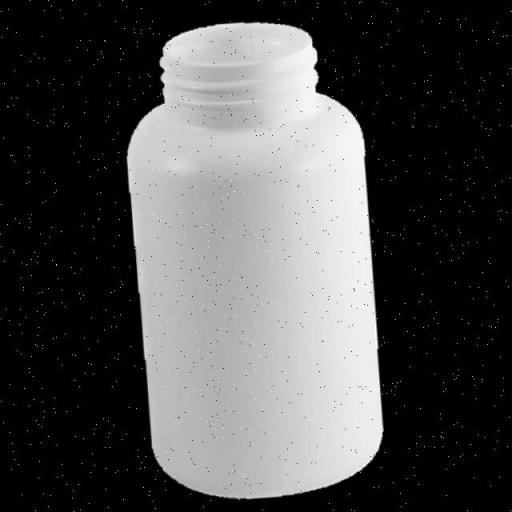plastic: (108, 3, 402, 508)
